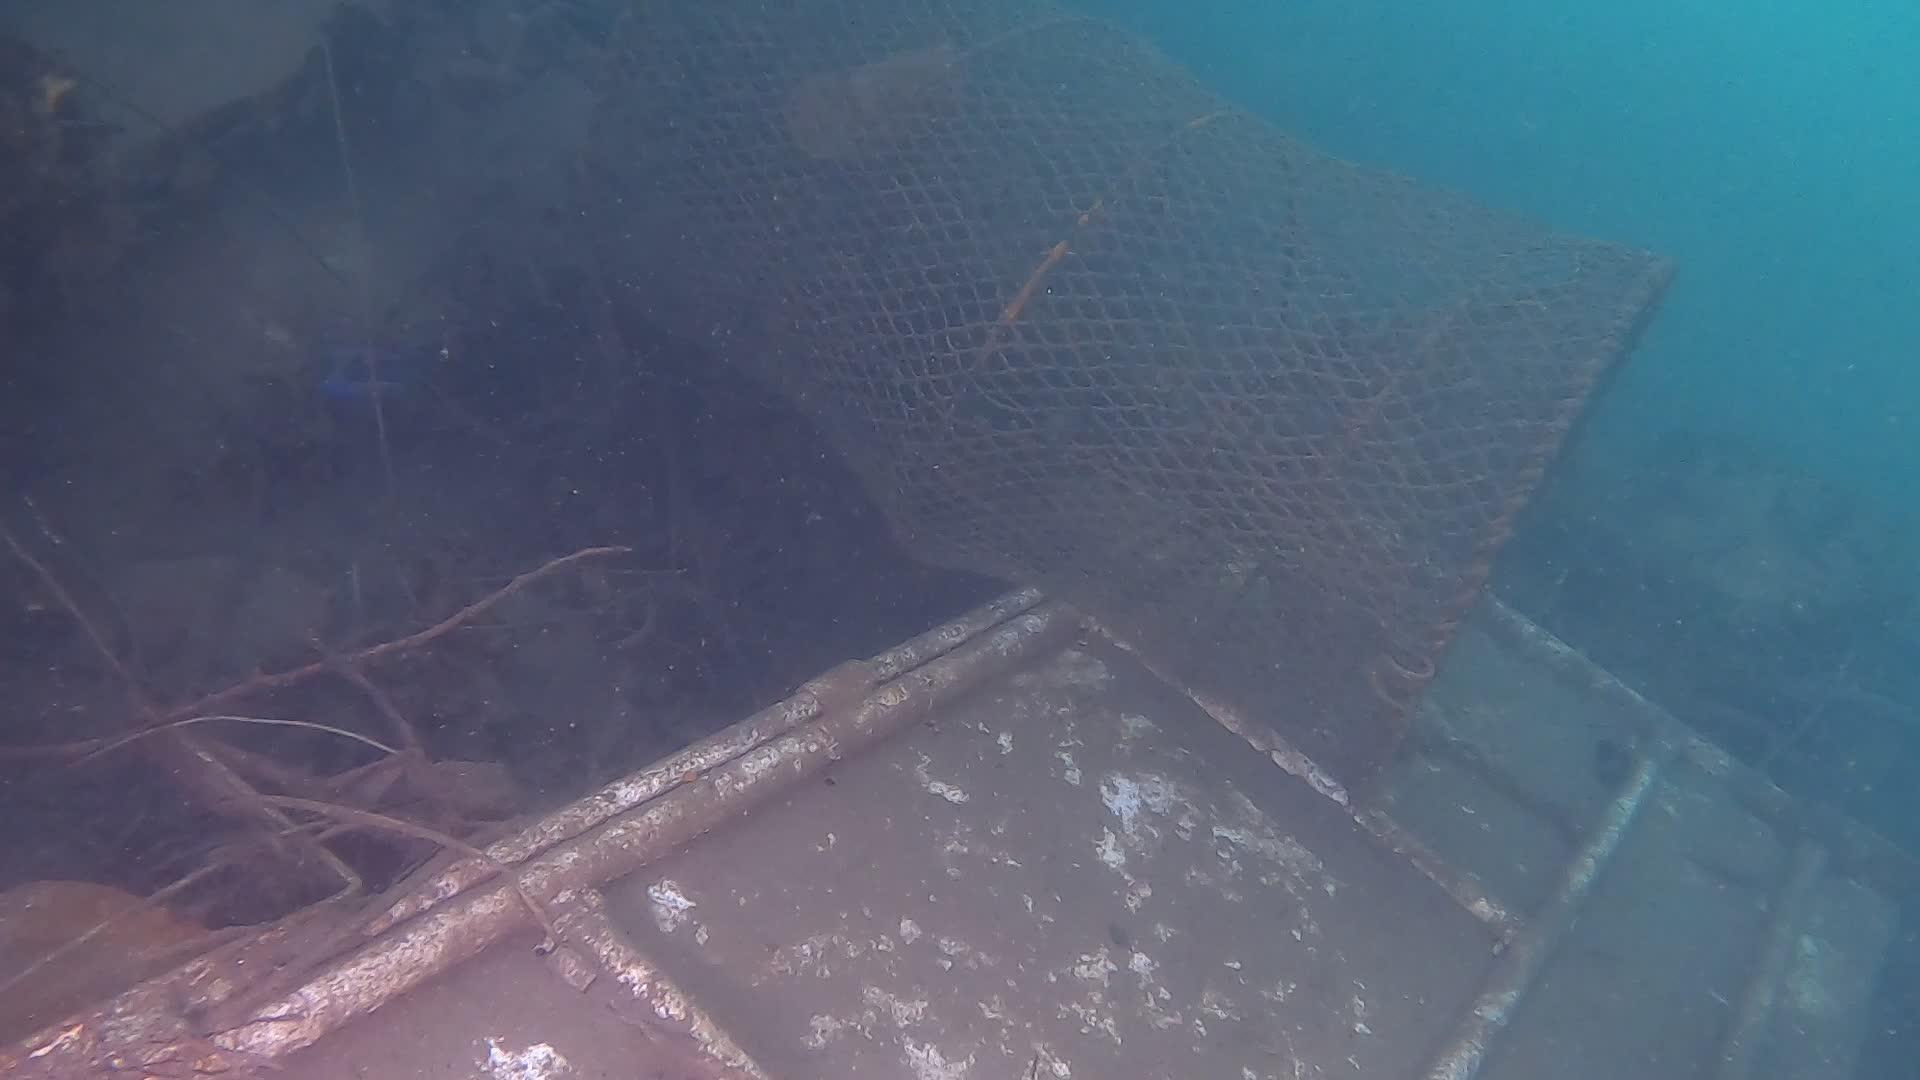spring fish trap: (567, 0, 1675, 767)
